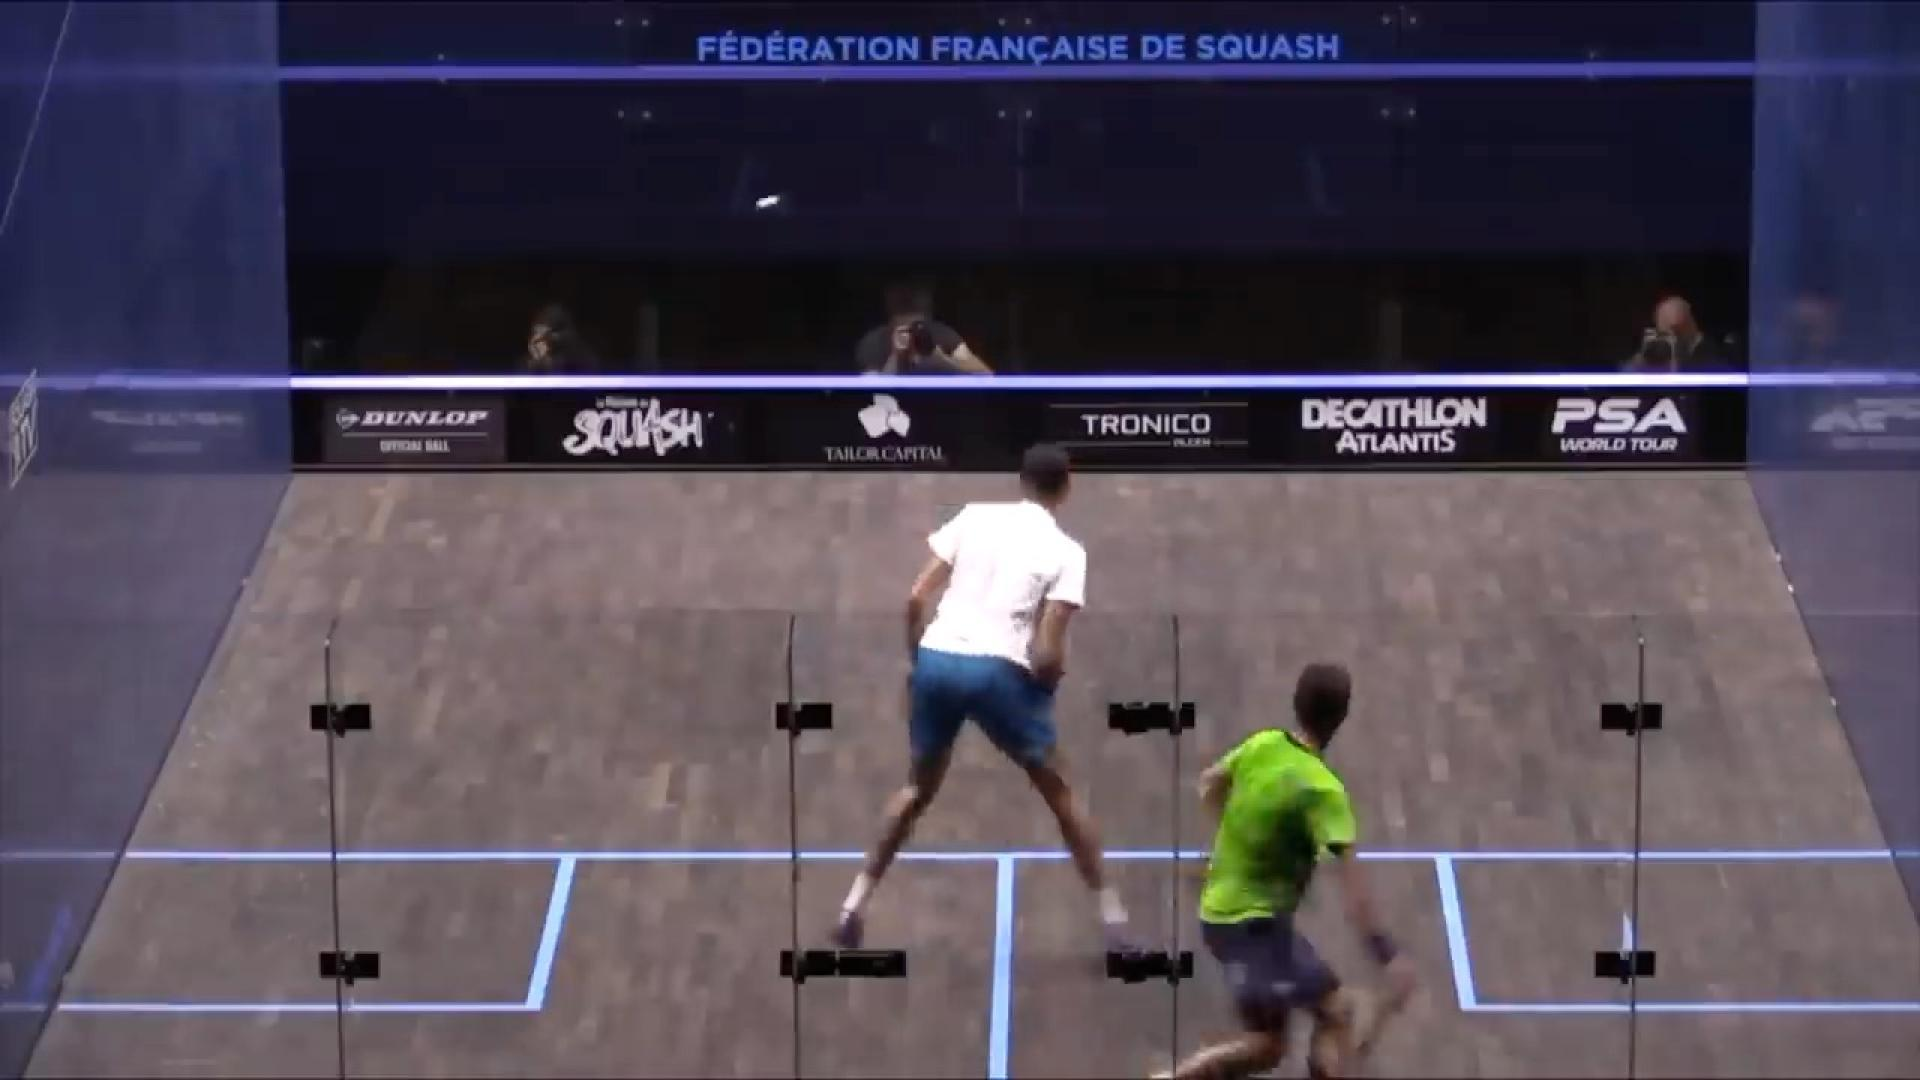Squash-Ball: (750, 185, 793, 228)
